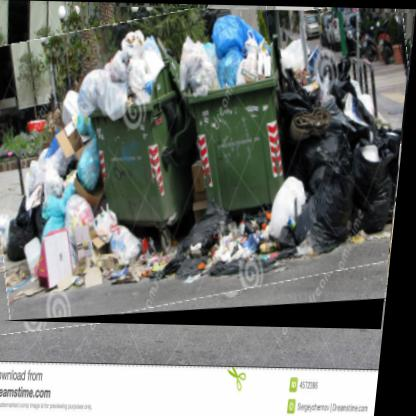Garbage: (1, 5, 416, 329)
